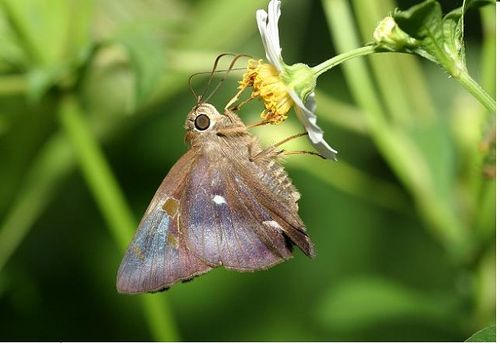Hesperiidae: (113, 50, 310, 299)
